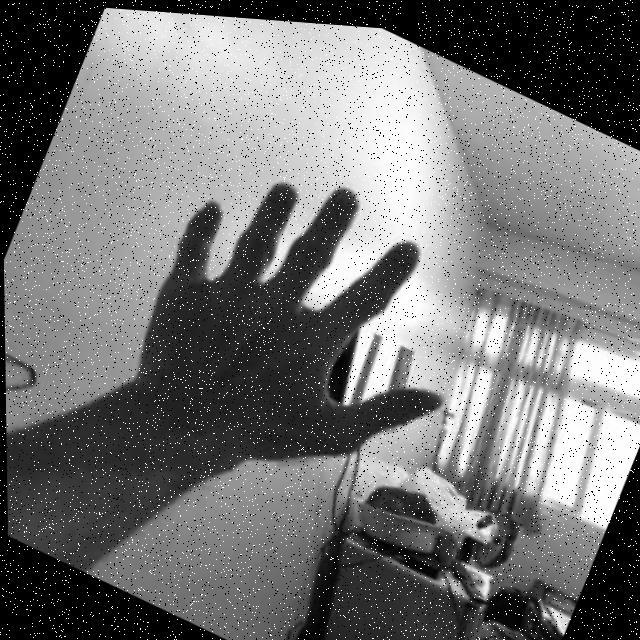no-gloves: (109, 118, 504, 536)
